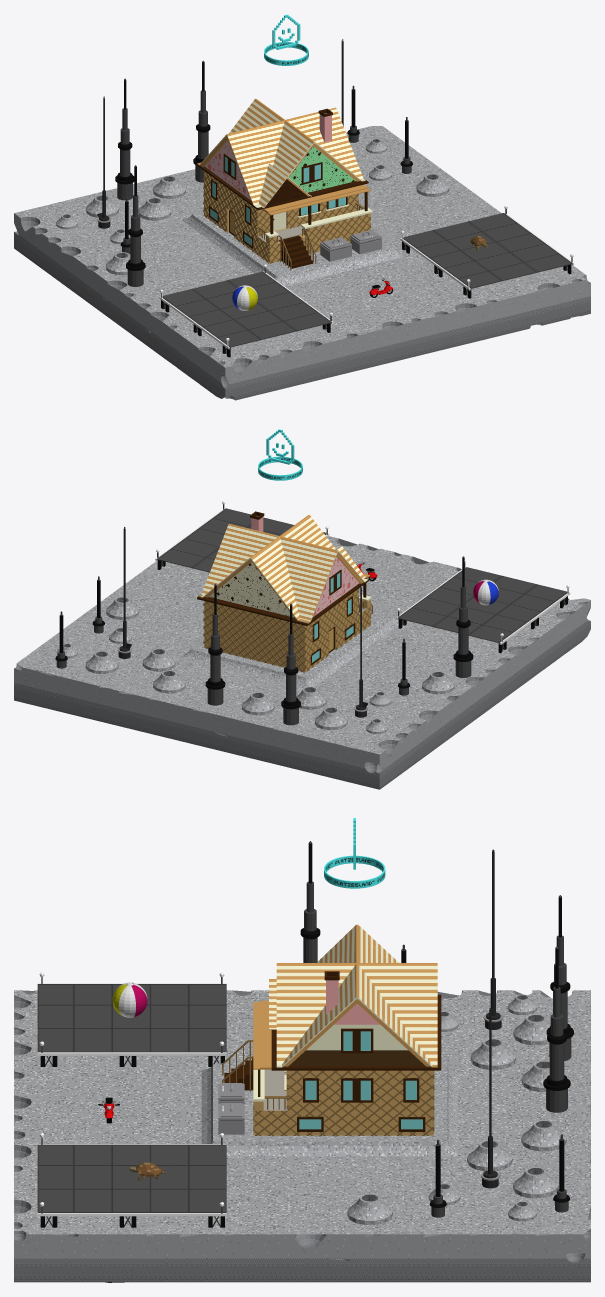
3 renders of one model, top to bottom at view 1: azimuth 30°, elevation 25°; view 2: azimuth 150°, elevation 25°; view 3: azimuth 270°, elevation 25°, orthographic. The views are drawn at different scales.
Visible parts, largest first — view 1: Cube.027, Cube.1102, Cube.026, Cube.025, Cube.028, Cylinder.021, Cylinder.020, Cylinder.017, TYPE_PREMIUM, Cube.029, Cube.030, Cylinder.026 (+3 smaller); view 2: Cube.027, Cube.1102, Cube.025, Cube.028, Cube.026, Cylinder.017, Cylinder.021, Cylinder.020, TYPE_PREMIUM, Cylinder.030, Cylinder.029, Cylinder.025 (+7 smaller); view 3: Cube.027, Cube.1102, Cube.026, Cube.025, Cube.028, Cylinder.017, Cylinder.020, Cylinder.021, TYPE_PREMIUM, Cylinder.031, Cylinder.033, Cylinder.026 (+10 smaller).
Boxes of the visible parts, x1,y1,x2,y2 form: Cube.027: [14, 126, 590, 400]; Cube.1102: [196, 98, 372, 269]; Cube.026: [400, 205, 574, 298]; Cube.025: [159, 264, 333, 357]; Cube.028: [182, 211, 403, 286]; Cylinder.021: [126, 165, 145, 286]; Cylinder.020: [115, 78, 134, 200]; Cylinder.017: [193, 60, 210, 182]; TYPE_PREMIUM: [264, 14, 308, 65]; Cube.029: [320, 237, 351, 261]; Cube.030: [350, 230, 381, 254]; Cylinder.026: [138, 197, 171, 220]; Cube.027: [14, 536, 590, 789]; Cube.1102: [197, 511, 372, 672]; Cube.025: [396, 560, 570, 653]; Cube.028: [181, 610, 398, 688]; Cube.026: [155, 501, 329, 572]; Cylinder.017: [205, 583, 225, 705]; Cylinder.021: [453, 556, 473, 677]; Cylinder.020: [281, 603, 300, 725]; TYPE_PREMIUM: [258, 429, 302, 480]; Cylinder.030: [142, 648, 175, 671]; Cylinder.029: [153, 670, 185, 693]; Cylinder.025: [422, 671, 454, 694]; Cube.027: [14, 990, 590, 1282]; Cube.1102: [222, 924, 441, 1135]; Cube.026: [37, 1133, 226, 1227]; Cube.025: [37, 972, 226, 1066]; Cube.028: [201, 1063, 457, 1156]; Cylinder.017: [543, 946, 570, 1112]; Cylinder.020: [546, 895, 573, 1060]; Cylinder.021: [300, 841, 320, 962]; TYPE_PREMIUM: [324, 818, 385, 888]; Cylinder.031: [513, 1167, 558, 1198]; Cylinder.033: [347, 1193, 392, 1224]; Cylinder.026: [470, 1038, 516, 1069].
Bounding box in the file's own units: 4000 × 2676 × 4000.
Materials: 36 (6 with a texture image).
